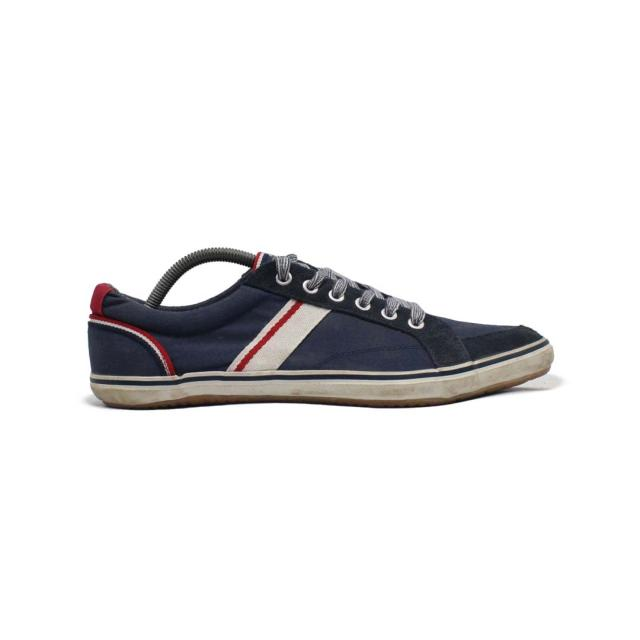heel: (81, 262, 128, 372)
midsole: (85, 372, 568, 411)
uppersole: (127, 264, 552, 368)
